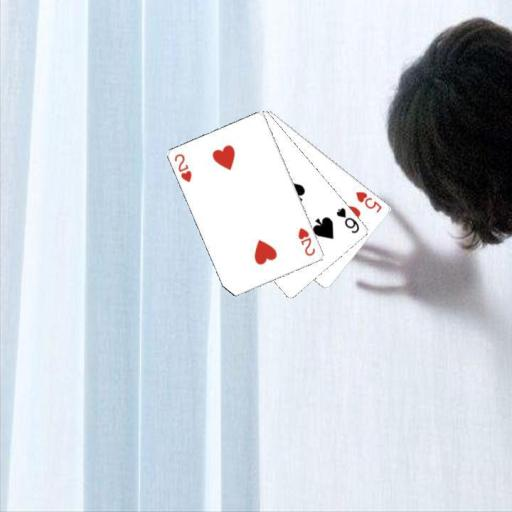2H: (172, 151, 194, 184), (295, 225, 317, 257)
5H: (353, 188, 384, 215)
6S: (334, 205, 361, 235)
